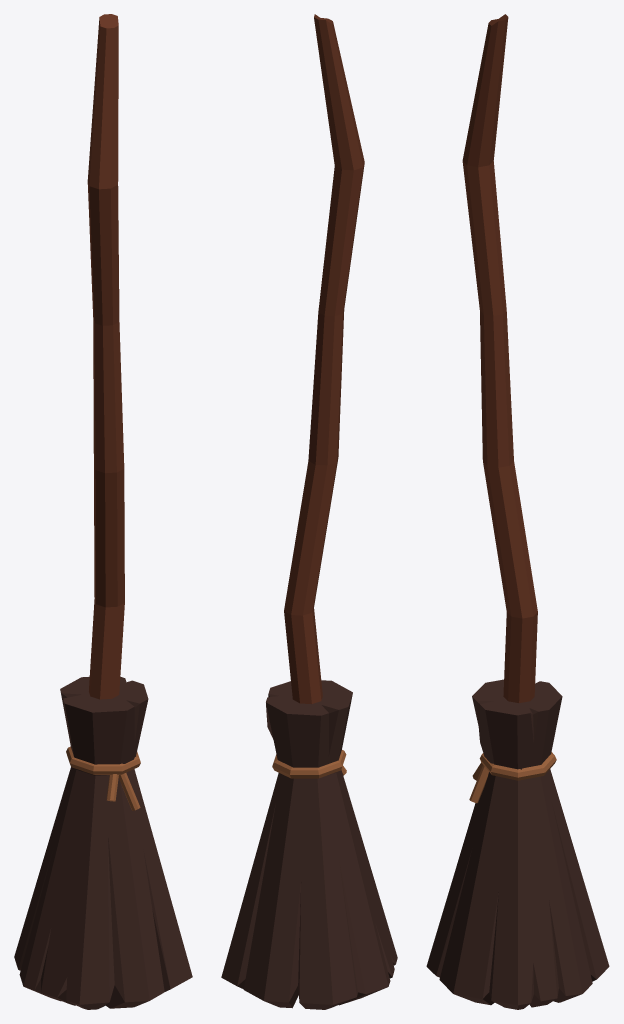
File: Bezem.fbx
3 renders of one model, left to right at view 1: azimuth 30°, elevation 25°; view 2: azimuth 150°, elevation 25°; view 3: azimuth 270°, elevation 25°, orthographic.
Visible parts, largest first — view 1: Cylinder.001, Cylinder, Torus; view 2: Cylinder.001, Cylinder, Torus; view 3: Cylinder.001, Cylinder, Torus.
Part boxes in pixels (x1,y1,x2,y2): Cylinder.001: (14,676,192,1009); Cylinder: (87,14,124,699); Torus: (66,746,140,810); Cylinder.001: (221,680,397,1009); Cylinder: (284,14,364,704); Torus: (272,750,346,778); Cylinder.001: (426,679,609,1009); Cylinder: (462,14,537,702); Torus: (469,752,556,803).
Size of the model in its own units: 27.1 by 158 by 27.1.
